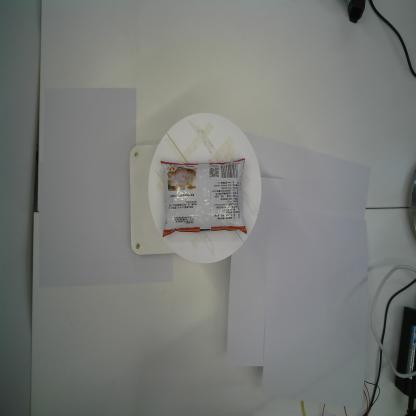Seasoner: (158, 156, 250, 240)
